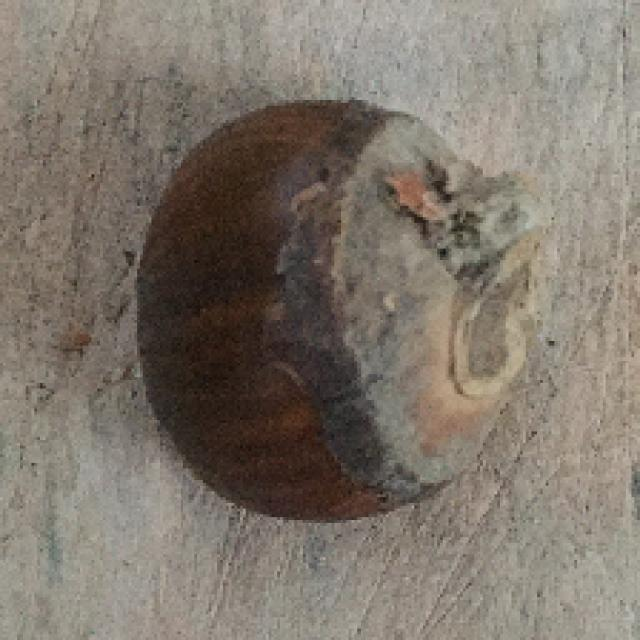damagedHazelnut: (132, 91, 537, 513)
